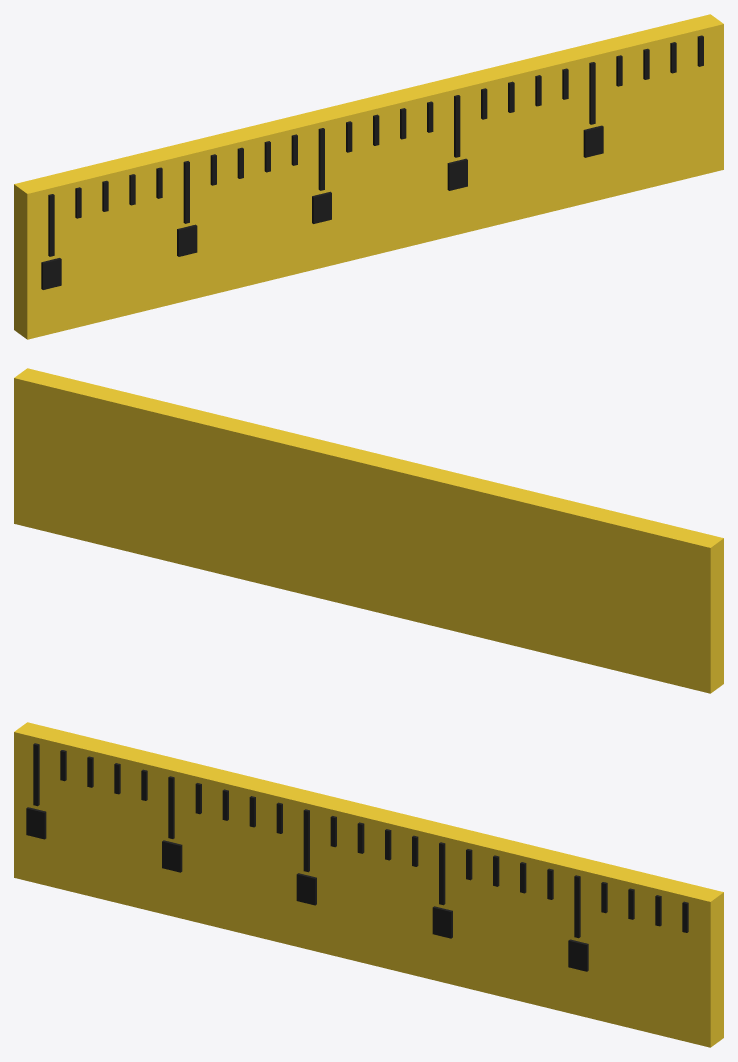
File: linjal.glb
3 views of the same model, one above another, from view 1: azimuth 30°, elevation 25°; view 2: azimuth 150°, elevation 25°; view 3: azimuth 330°, elevation 25° (orthographic).
Parts seen in each view (by area): view 1: linjal; view 2: linjal; view 3: linjal.
Part boxes in pixels (x1,y1,x2,y2): linjal: (14, 14, 723, 339); linjal: (14, 368, 723, 693); linjal: (14, 722, 723, 1047).
Bounding box in the file's own units: 0.6 × 0.12 × 0.0225.
